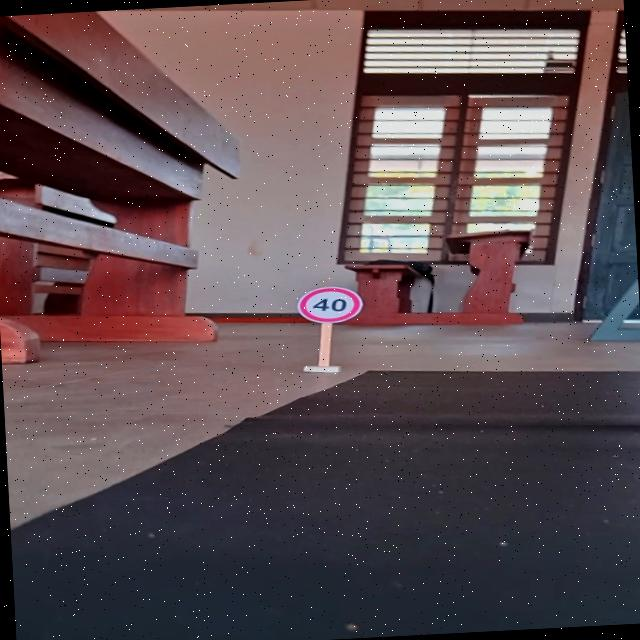Speed40: (294, 283, 364, 327)
